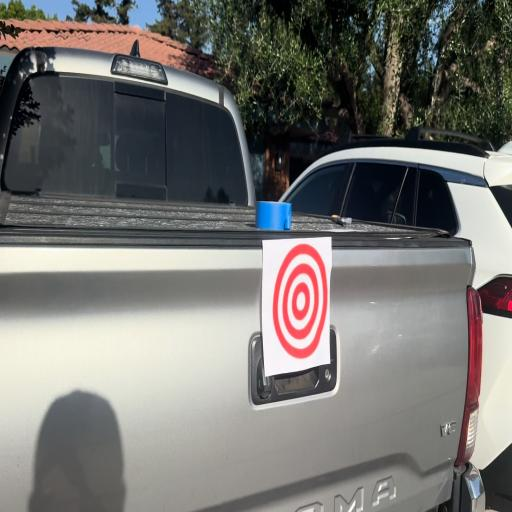bullseye: (269, 238, 331, 376)
